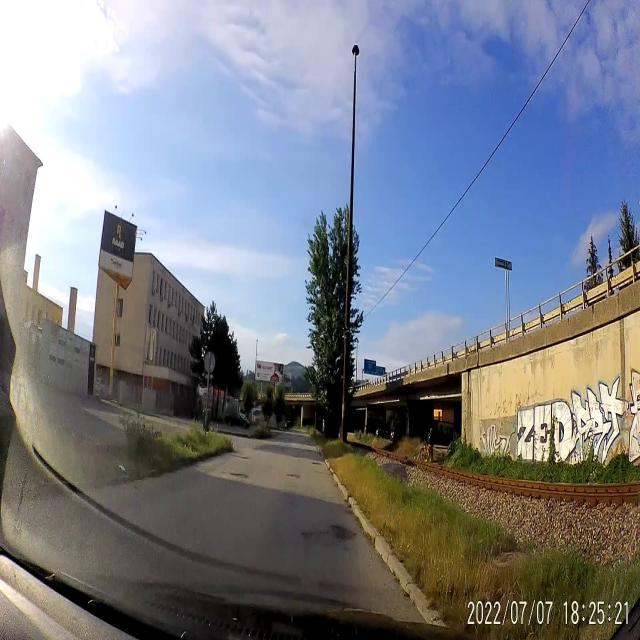Pothole: (304, 520, 358, 556), (227, 464, 249, 482), (284, 469, 302, 482), (231, 453, 252, 463), (310, 458, 324, 468)
